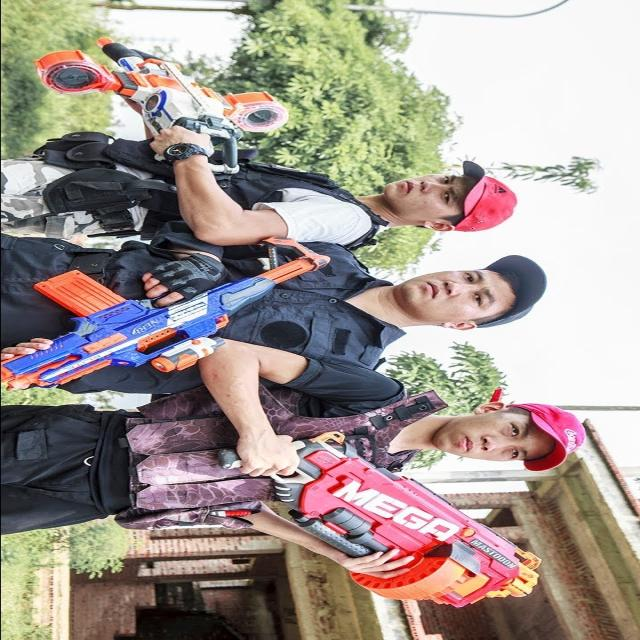Nerf gun: (196, 428, 556, 611), (1, 233, 336, 393), (37, 29, 295, 164)
